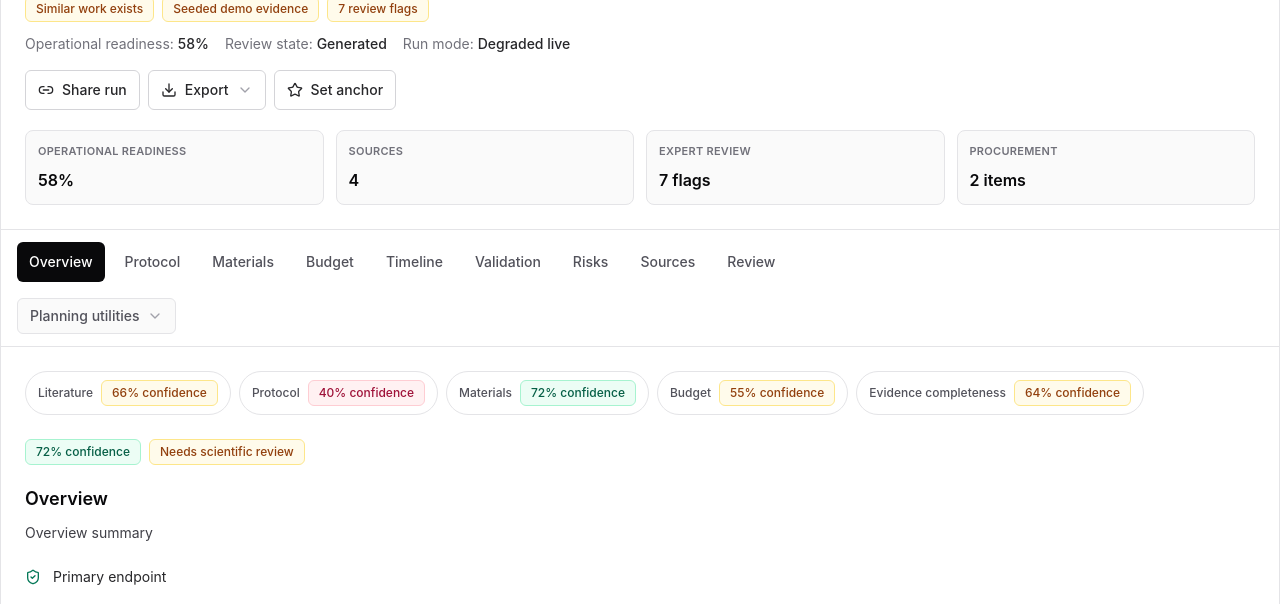
Test: PlanTabs › keeps advanced review fields collapsed by default
The image size is (1280, 604).
Click the button "Review" at (751, 262), box [715,242,787,282]
(page scrolled)
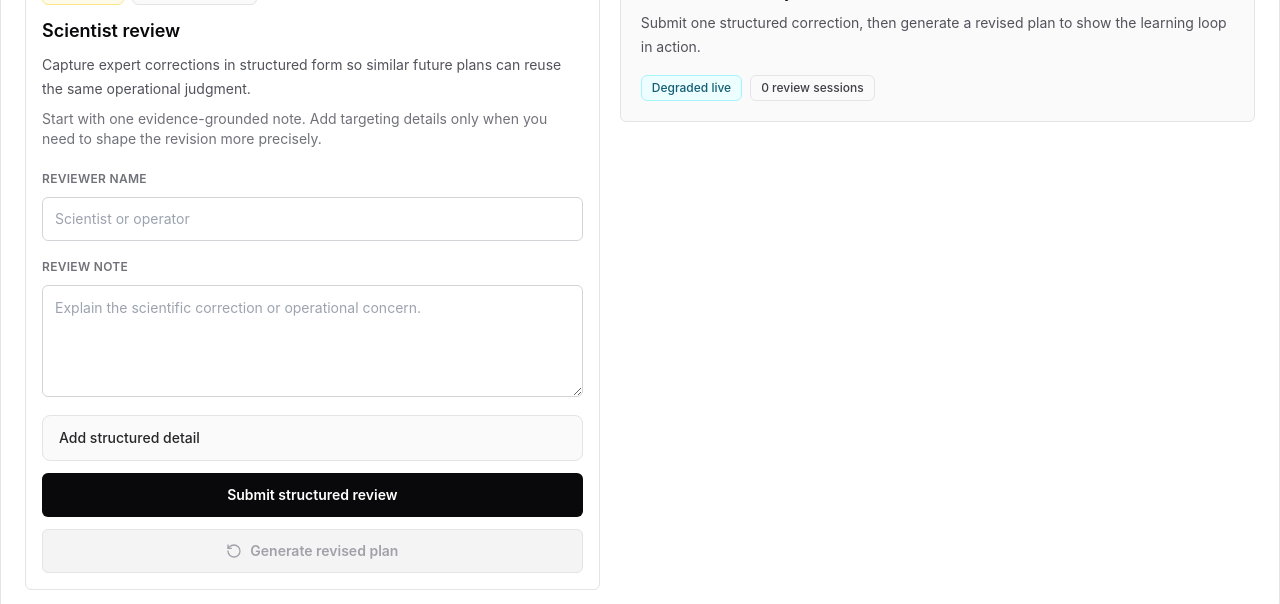
Expected: the field labelled "Target type" is not shown
Expected: the heading "Add structured detail" is shown
Click the heading "Add structured detail" at (129, 437), box [59,428,200,446]
(page scrolled)
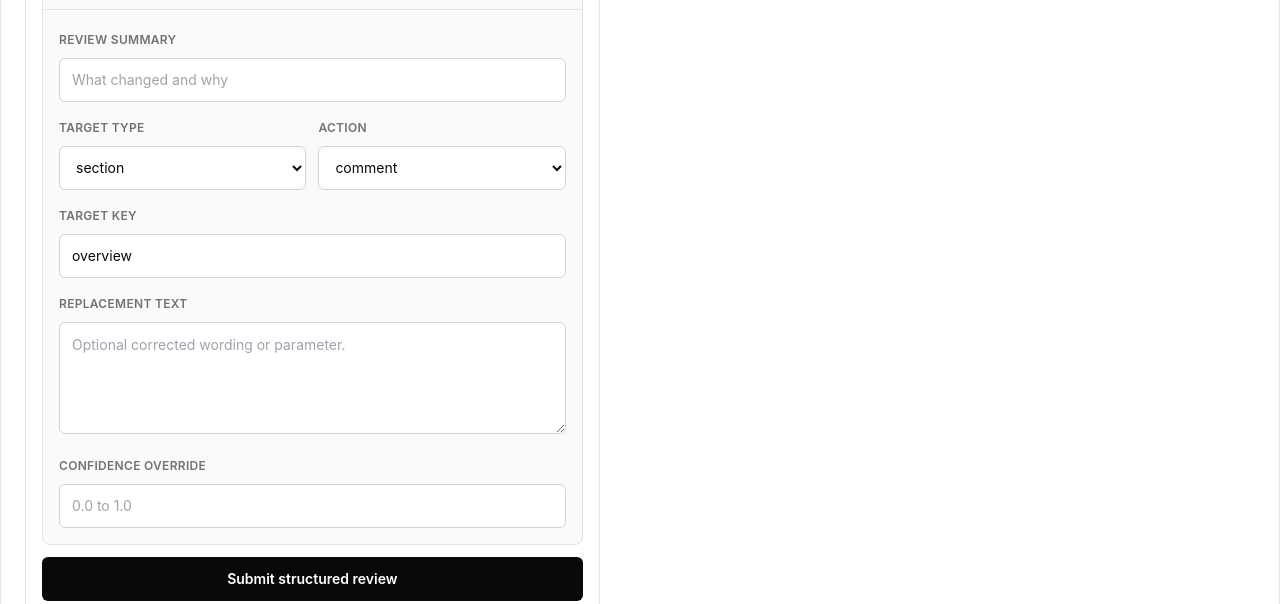
Expected: the dropdown labelled "Target type" is shown, [59,146,306,190]
Expected: the field labelled "Target key" is shown, [59,234,566,278]
